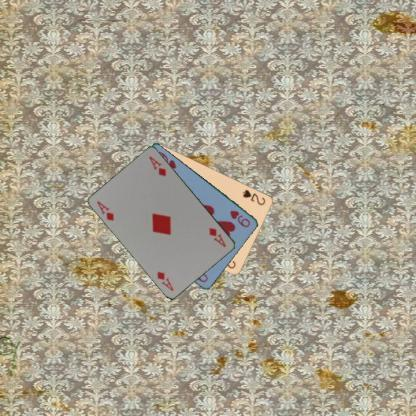2s: (240, 186, 267, 206)
9h: (227, 208, 252, 228)
Ad: (94, 198, 116, 222), (206, 226, 228, 248)
